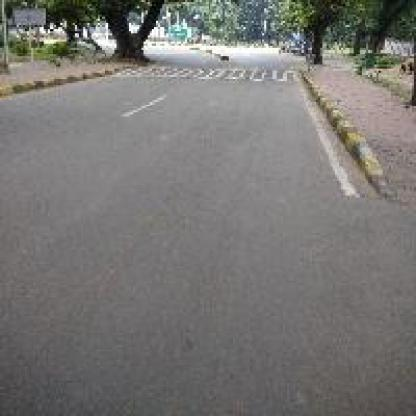Speed Bump: (100, 62, 299, 83)
